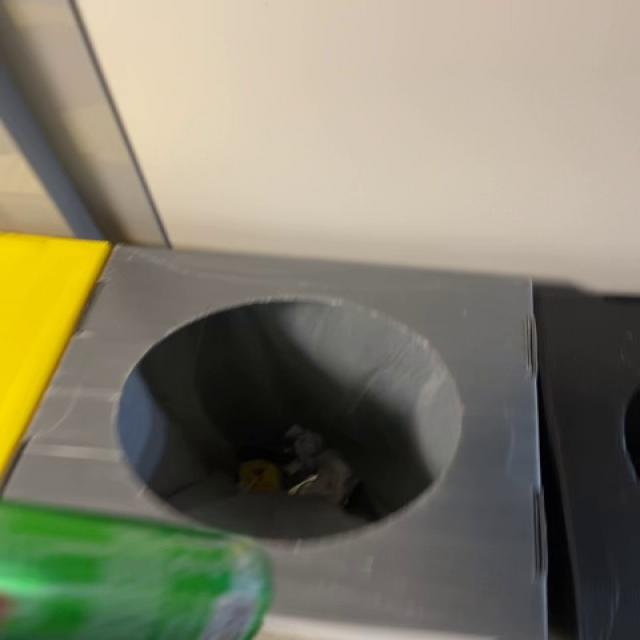bin: (4, 247, 547, 640)
metal: (1, 502, 272, 640), (0, 234, 112, 476)
